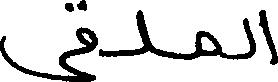X: (0, 0, 76, 81), (78, 0, 96, 81), (261, 5, 277, 69), (196, 26, 220, 62), (137, 5, 151, 59), (243, 13, 255, 63)
